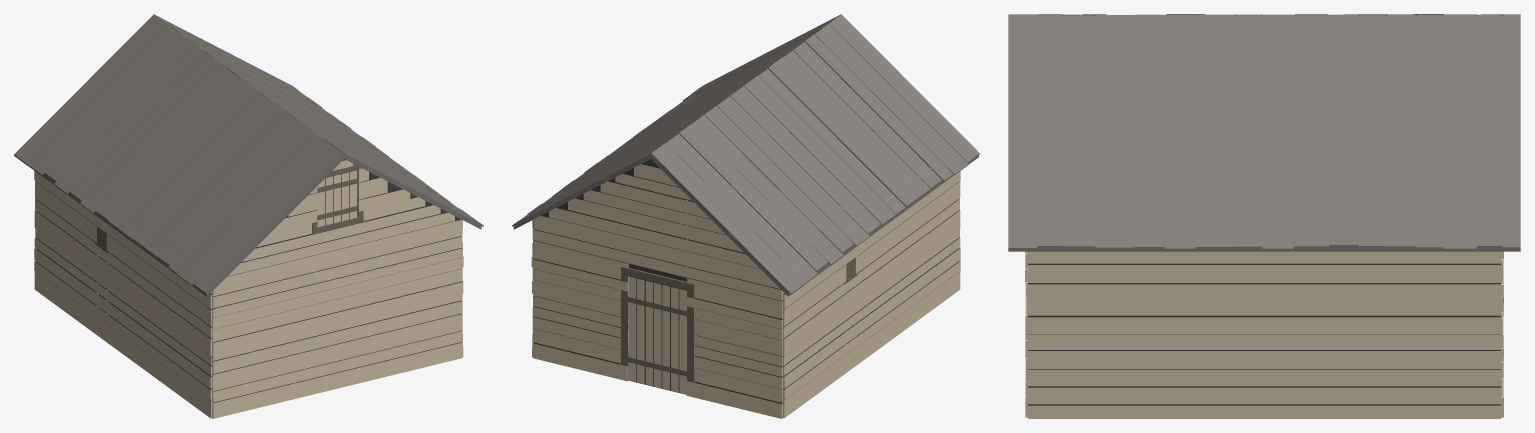
File: recon_1835_north_a1_050__inferred_1835.glb
3 renders of one model, left to right at view 1: azimuth 30°, elevation 25°; view 2: azimuth 150°, elevation 25°; view 3: azimuth 270°, elevation 25°, orthographic. The views are drawn at different scales.
Visible parts, largest first — view 1: recon_1835_north_a1_050__inferred_1835; view 2: recon_1835_north_a1_050__inferred_1835; view 3: recon_1835_north_a1_050__inferred_1835.
Boxes of the visible parts, <box> form: recon_1835_north_a1_050__inferred_1835: <box>14,14,483,418</box>; recon_1835_north_a1_050__inferred_1835: <box>512,14,979,418</box>; recon_1835_north_a1_050__inferred_1835: <box>1008,14,1520,418</box>.
Bounding box in the file's own units: 6.38 × 5.23 × 7.55.
